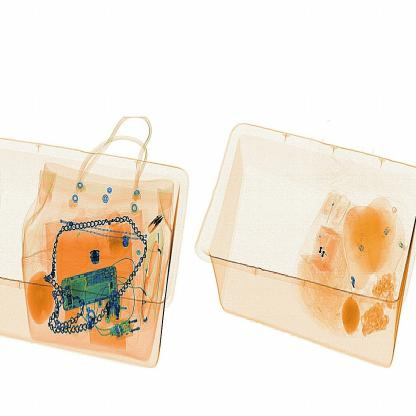wrench: (136, 209, 172, 239)
